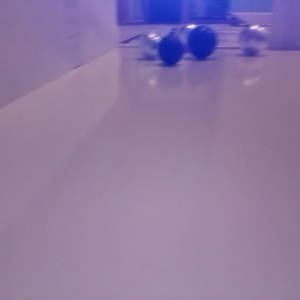alive_ball: (239, 24, 268, 56), (177, 23, 203, 52), (140, 32, 162, 59)
dead_ball: (187, 26, 217, 59), (158, 35, 184, 66)
